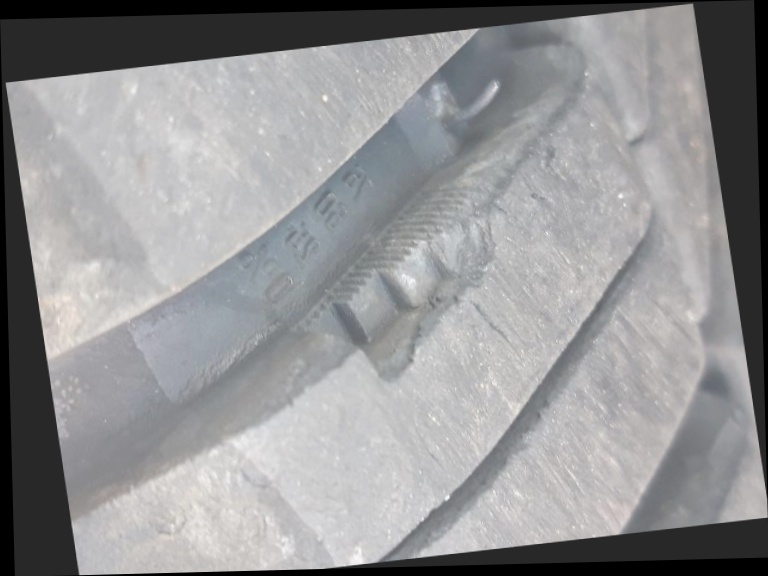temoin:80: (256, 168, 550, 406)
